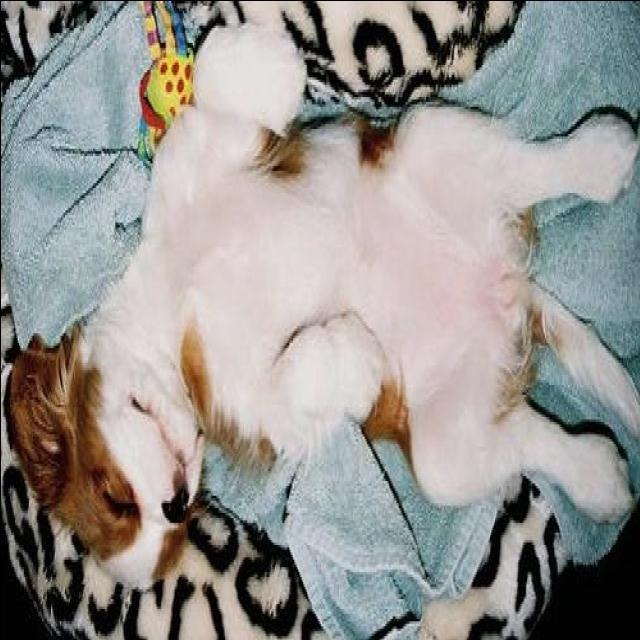blenheim_spaniel: (1, 14, 640, 598)
